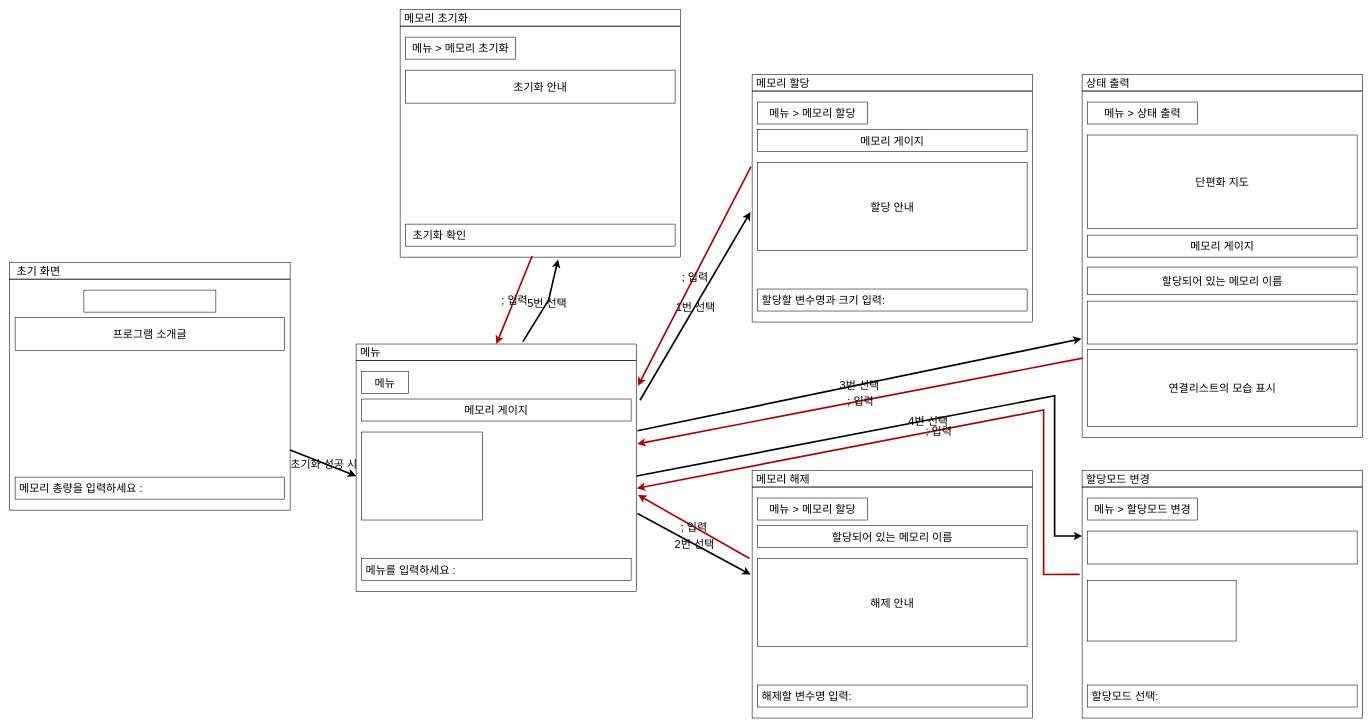
This 1372x728 diagram has some shape labels left out. The shapes that lost their labels are listed below. From the top down, each one's centre as x and y in pixels, then its label:
At point 149,301: "Title".
At point 1222,322: "메모리 상태, 사용량 정보".
At point 422,475: "1. 메모리 할당 2. 메모리 해제 3. 상태 출력 4. 할당모드 변경 5. 메모리 초기화 6. 프로그램 종료".
At point 1222,547: "변경 안내".
At point 1161,610: "1. First Fit 2. Best Fit 3 Worst Fit".
